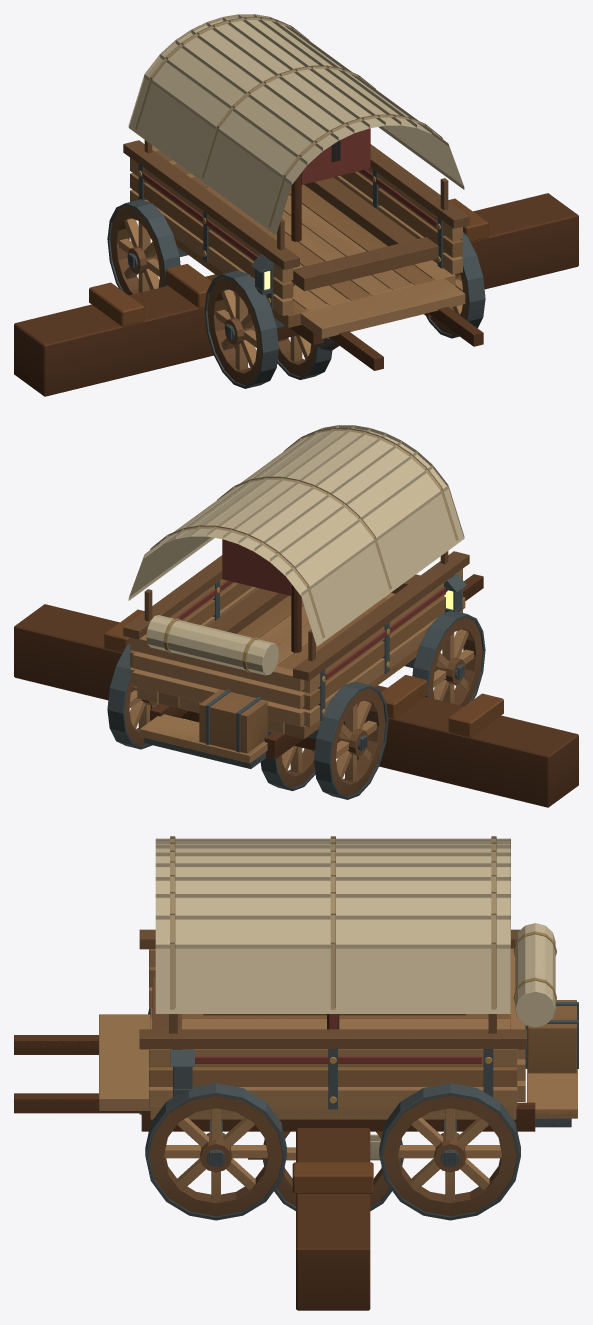
Rendered from arandu_caravan_kit.glb.
3 renders of one model, top to bottom at view 1: azimuth 30°, elevation 25°; view 2: azimuth 150°, elevation 25°; view 3: azimuth 270°, elevation 25°, orthographic. The views are drawn at different scales.
Parts seen in each view (by area): view 1: kit_caravan_cart, kit_road_block, kit_caravan_open, kit_bandit_banner, kit_caravan_wheel; view 2: kit_caravan_cart, kit_road_block, kit_caravan_open, kit_bandit_banner, kit_caravan_wheel; view 3: kit_caravan_cart, kit_caravan_open, kit_road_block, kit_caravan_wheel.
Boxes of the visible parts, x1,y1,x2,y2 form: kit_caravan_cart: (107, 14, 485, 388); kit_road_block: (14, 193, 578, 396); kit_caravan_open: (123, 141, 482, 369); kit_bandit_banner: (291, 128, 370, 242); kit_caravan_wheel: (277, 335, 332, 379); kit_caravan_cart: (107, 425, 485, 799); kit_road_block: (14, 604, 578, 807); kit_caravan_open: (124, 556, 483, 768); kit_bandit_banner: (222, 539, 301, 653); kit_caravan_wheel: (260, 730, 315, 790); kit_caravan_cart: (14, 836, 578, 1220); kit_caravan_open: (15, 923, 577, 1164); kit_road_block: (292, 1128, 373, 1310); kit_caravan_wheel: (263, 1131, 403, 1210).
Size of the model in its own units: 7 by 3.81 by 5.31.
